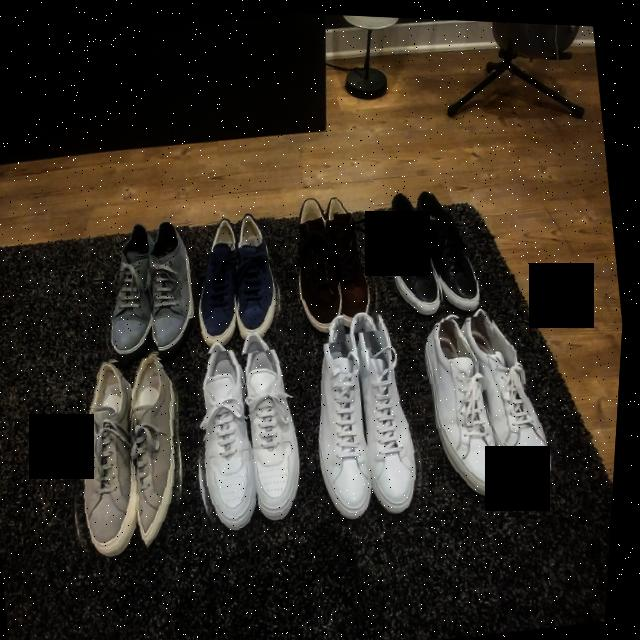shoe: (44, 346, 167, 583), (454, 289, 580, 497), (99, 336, 213, 564), (412, 302, 525, 509), (348, 297, 449, 524), (230, 320, 336, 535), (297, 302, 396, 526), (177, 333, 278, 547), (273, 173, 358, 347), (124, 199, 213, 363), (315, 170, 400, 334), (84, 214, 170, 364), (407, 170, 492, 320), (220, 200, 300, 355), (375, 175, 454, 326), (185, 206, 259, 354)
